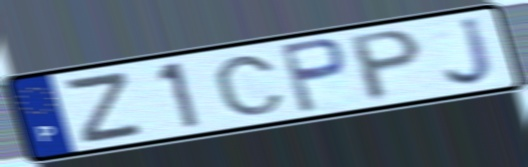1: (155, 59, 203, 133)
C: (211, 53, 288, 118)
J: (441, 14, 499, 89)
P: (348, 26, 426, 105), (276, 35, 350, 116)
Z: (64, 68, 147, 146)
